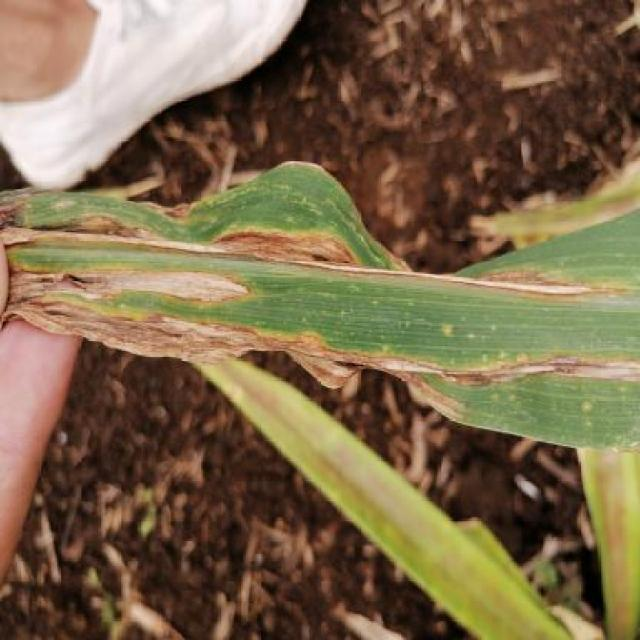Corn_Leaf_Blight: (0, 168, 640, 452)
